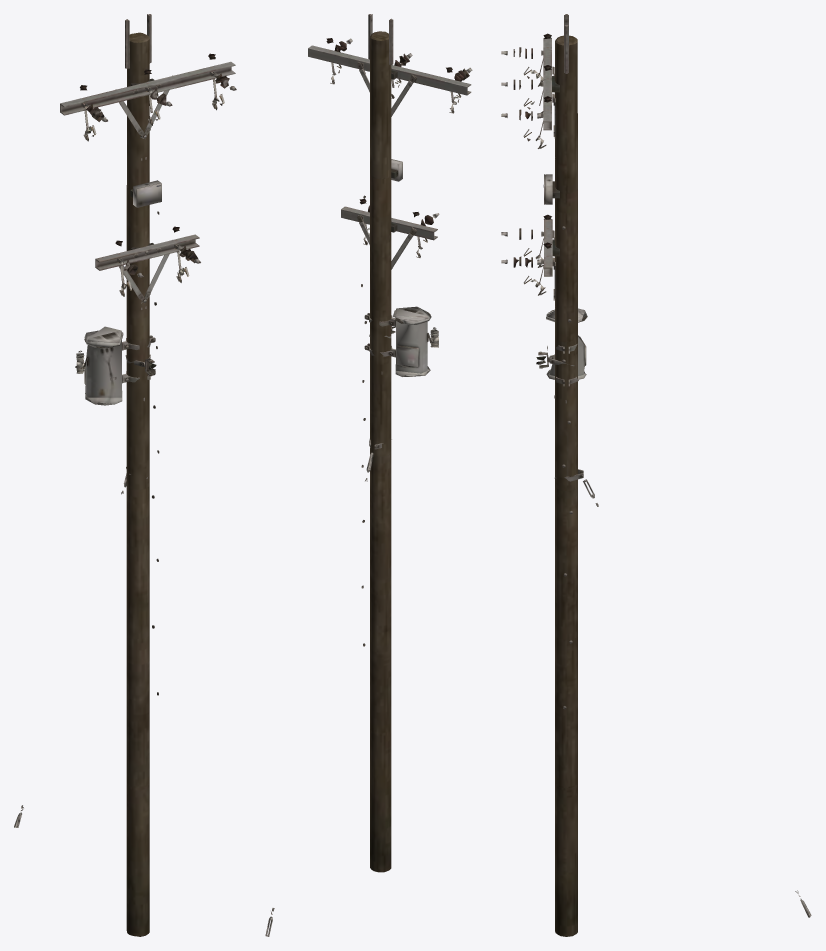
File: poteau_electrique_a_lod1.glb
The picture shows the model from 3 angles, left to right: view 1: azimuth 30°, elevation 25°; view 2: azimuth 150°, elevation 25°; view 3: azimuth 270°, elevation 25°; orthographic projection. The views are drawn at different scales.
Parts seen in each view (by area): view 1: preset_01_pole, preset_01_bolt_small_01; view 2: preset_01_pole, preset_01_bolt_small_01; view 3: preset_01_pole, preset_01_bolt_small_01.
Boxes of the visible parts, x1,y1,x2,y2 form: preset_01_pole: (126, 32, 149, 936); preset_01_bolt_small_01: (14, 14, 236, 827); preset_01_pole: (370, 31, 391, 872); preset_01_bolt_small_01: (265, 14, 472, 936); preset_01_pole: (555, 35, 577, 936); preset_01_bolt_small_01: (501, 14, 811, 917).
Size of the model in its own units: 1.2 by 6.13 by 1.89.
2 materials, 2 textured.
